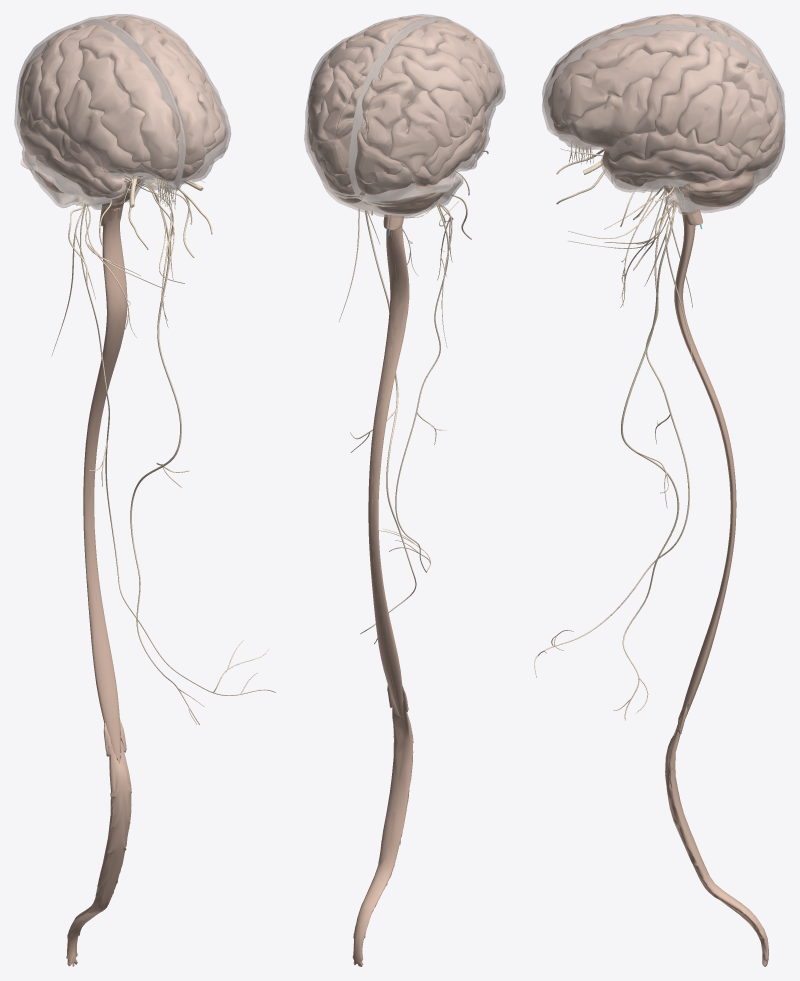
Rendered from neuraxia-bp3d-cns-desktop.glb.
3 renders of one model, left to right at view 1: azimuth 30°, elevation 25°; view 2: azimuth 150°, elevation 25°; view 3: azimuth 270°, elevation 25°, orthographic. The views are drawn at different scales.
Parts seen in each view (by area): view 1: Cerebral dura mater, Spinal cord, Right superior frontal gyrus, Cauda equina, Left superior frontal gyrus, Right middle frontal gyrus, Right inferior frontal gyrus, Right superior temporal gyrus, Right precentral gyrus, Falx cerebri, Right middle temporal gyrus, Right postcentral gyrus (+4 smaller); view 2: Cerebral dura mater, Spinal cord, Cauda equina, Right angular gyrus, Right superior parietal lobule, Right postcentral gyrus, Left superior parietal lobule, Falx cerebri, Right superior frontal gyrus, Cerebellum, Left angular gyrus, Right supramarginal gyrus (+15 smaller); view 3: Cerebral dura mater, Spinal cord, Left superior frontal gyrus, Left middle frontal gyrus, Left inferior frontal gyrus, Cauda equina, Left angular gyrus, Left superior temporal gyrus, Left middle temporal gyrus, Left postcentral gyrus, Left precentral gyrus, Falx cerebri (+7 smaller).
Part boxes in pixels (x1,y1,x2,y2): Cerebral dura mater: (14,14,231,209); Spinal cord: (83,208,127,762); Right superior frontal gyrus: (78,25,179,170); Cauda equina: (66,719,131,966); Left superior frontal gyrus: (115,19,207,164); Right middle frontal gyrus: (78,49,150,162); Right inferior frontal gyrus: (64,79,140,170); Right superior temporal gyrus: (20,112,122,192); Right precentral gyrus: (54,24,98,135); Falx cerebri: (84,19,185,187); Right middle temporal gyrus: (23,132,111,194); Right postcentral gyrus: (38,23,87,129); Cerebral dura mater: (304,14,505,218); Spinal cord: (368,225,409,716); Cauda equina: (352,684,413,966); Right angular gyrus: (388,90,452,173); Right superior parietal lobule: (366,67,416,156); Right postcentral gyrus: (378,55,482,116); Left superior parietal lobule: (323,60,365,139); Falx cerebri: (348,17,451,195); Right superior frontal gyrus: (394,20,475,55); Cerebellum: (324,172,443,213); Left angular gyrus: (308,67,333,148); Right supramarginal gyrus: (428,88,472,137); Cerebral dura mater: (542,14,785,215); Spinal cord: (674,214,736,731); Left superior frontal gyrus: (548,30,697,124); Left middle frontal gyrus: (561,49,672,125); Left inferior frontal gyrus: (569,77,652,147); Cauda equina: (665,703,768,966); Left angular gyrus: (715,81,771,158); Left superior temporal gyrus: (602,128,741,171); Left middle temporal gyrus: (606,149,751,180); Left postcentral gyrus: (655,40,729,136); Left precentral gyrus: (634,33,711,133); Falx cerebri: (548,25,784,129).
Size of the model in its own units: 0.152 by 0.7939 by 0.1916.
